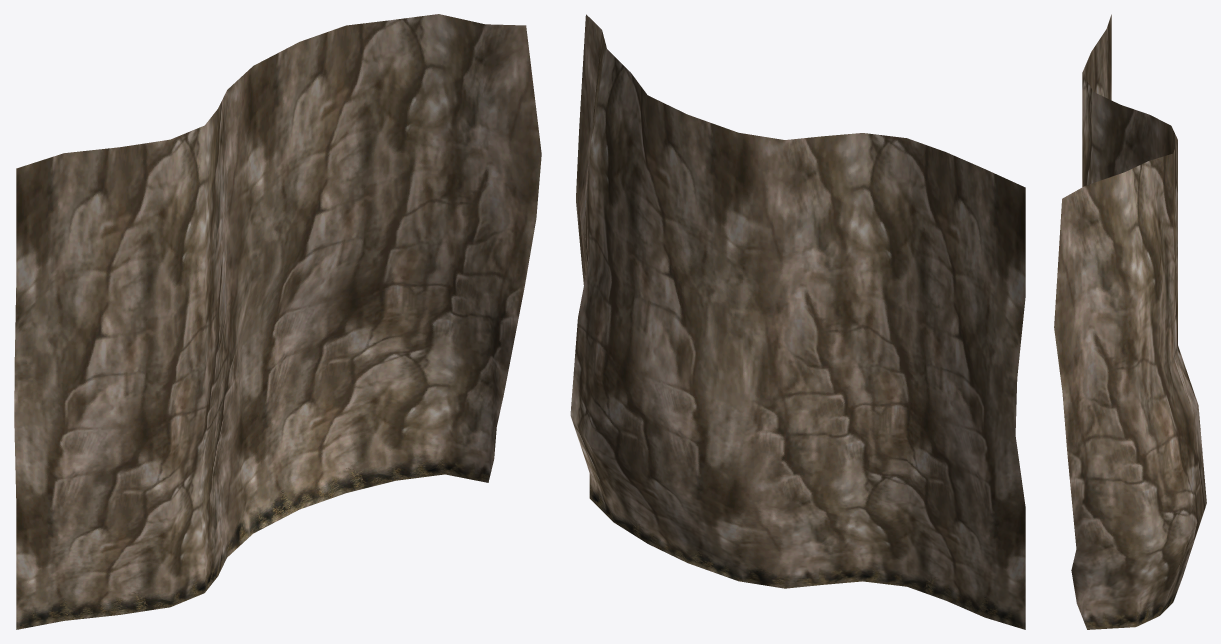
Rendered from OVERHILL_A_01_LINE106.fbx.
3 renders of one model, left to right at view 1: azimuth 30°, elevation 25°; view 2: azimuth 150°, elevation 25°; view 3: azimuth 270°, elevation 25°, orthographic. The views are drawn at different scales.
Parts seen in each view (by area): view 1: OVERHILL_A_01_LINE106; view 2: OVERHILL_A_01_LINE106; view 3: OVERHILL_A_01_LINE106.
Boxes of the visible parts, x1,y1,x2,y2 form: OVERHILL_A_01_LINE106: (14,14,541,629); OVERHILL_A_01_LINE106: (570,14,1025,629); OVERHILL_A_01_LINE106: (1054,14,1206,629).
Size of the model in its own units: 111994 by 109321 by 31143.
Materials: 2 (2 with a texture image).
